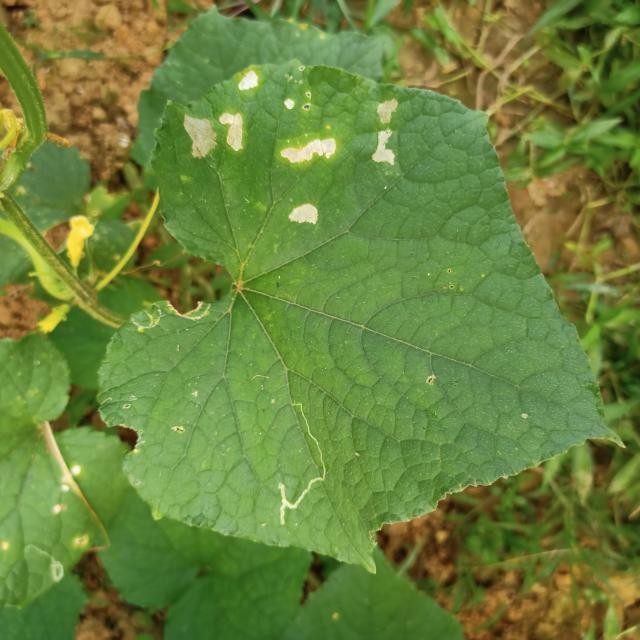disease_cucumber: (178, 66, 344, 168), (368, 96, 401, 170), (282, 194, 322, 232)
